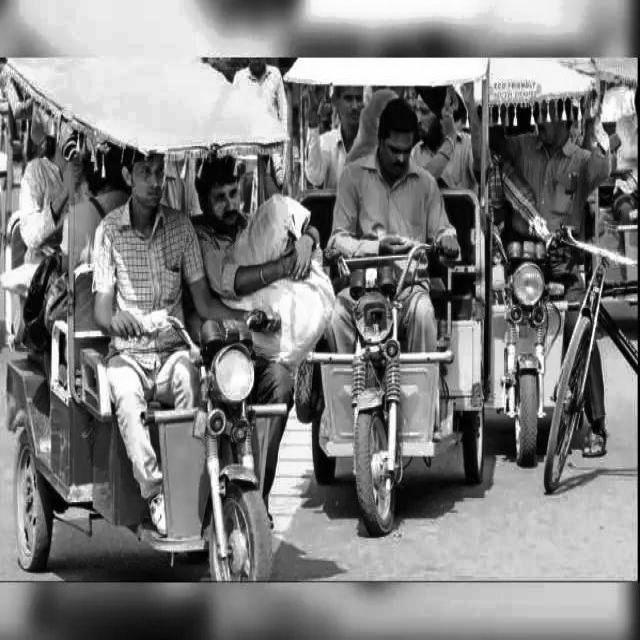Toto: (0, 35, 293, 579), (303, 50, 489, 536), (489, 58, 599, 465)
